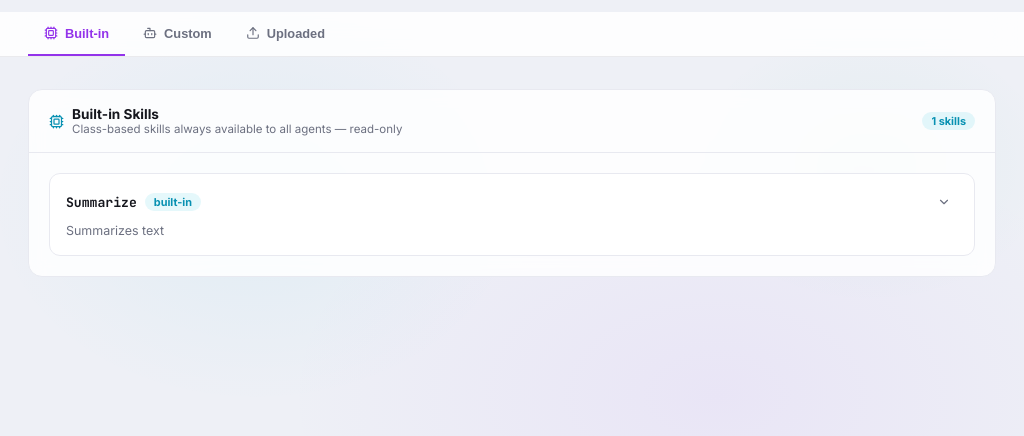
Scenario: Skills page › switches to the custom tab
The image size is (1024, 436).
Click the button with test id "tab-custom".
click(177, 34)  # box top-left (127, 12), bottom-right (228, 56)
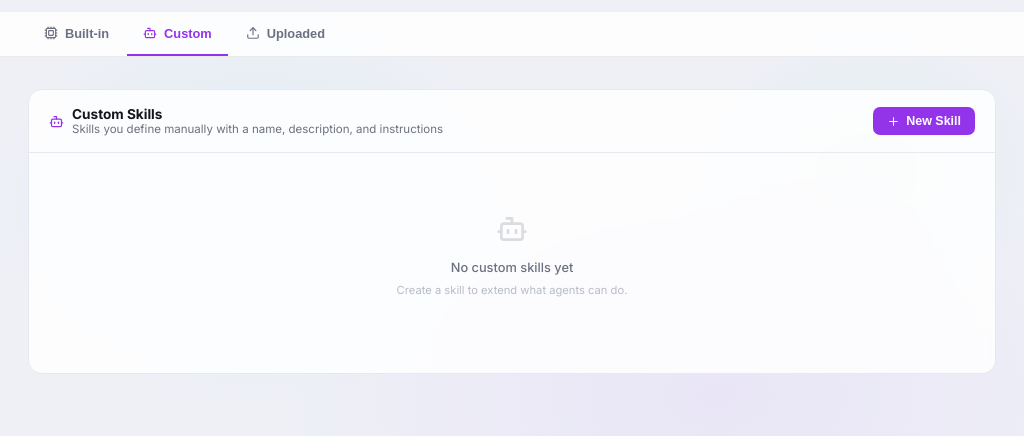
Expected: the text "Built-in Skills" is gone
